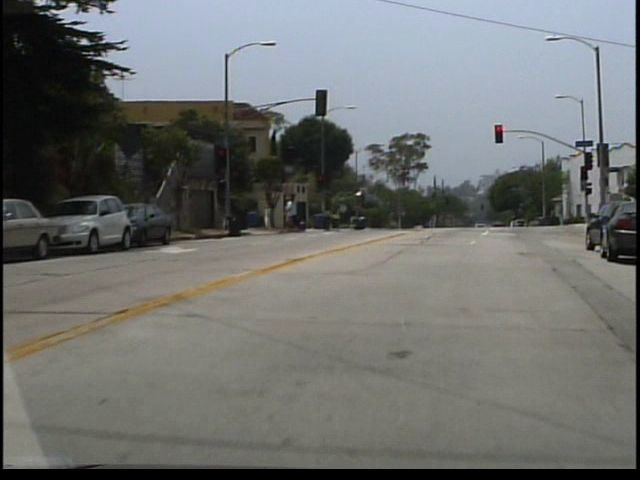person: (287, 198, 301, 236), (268, 203, 278, 234)
